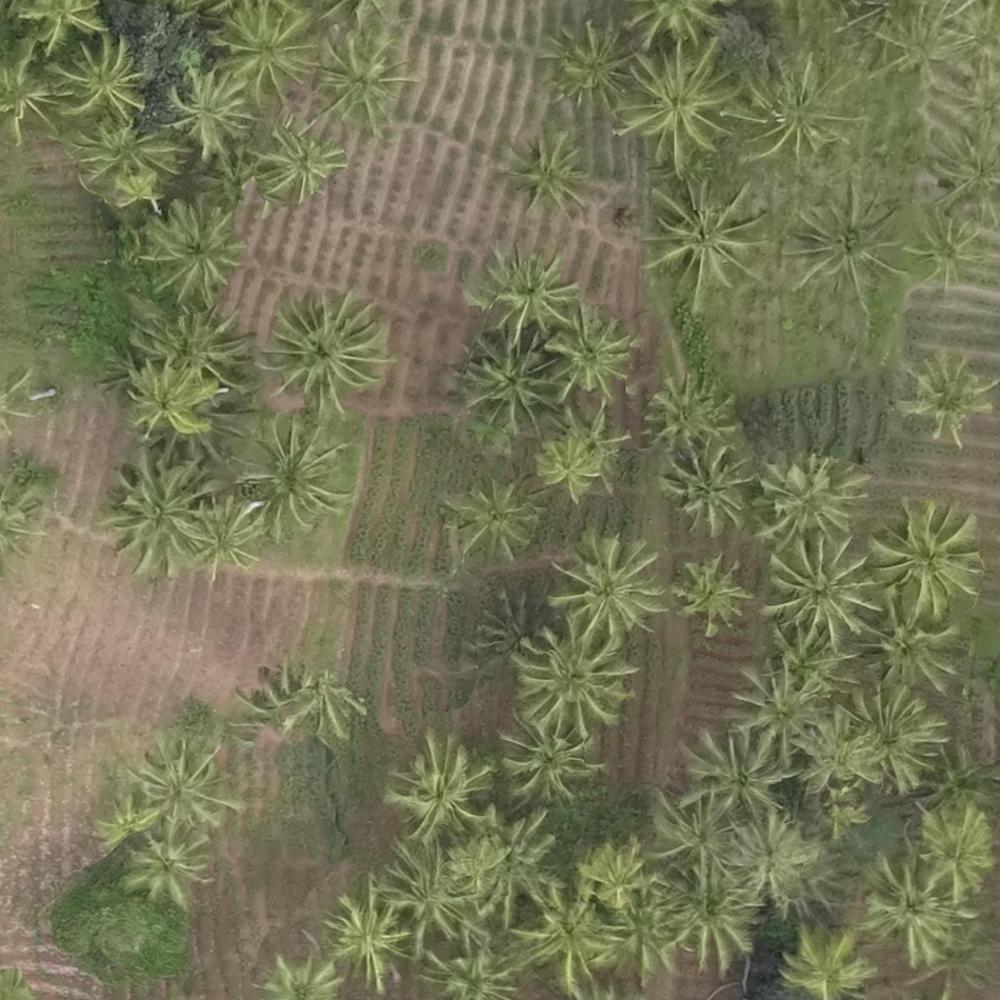Palm: (641, 182, 765, 296), (868, 496, 985, 613), (622, 45, 734, 164), (265, 292, 380, 404), (238, 416, 344, 530), (112, 452, 217, 567), (513, 633, 633, 733), (549, 531, 660, 639), (794, 188, 900, 301), (736, 56, 847, 160), (661, 864, 763, 977), (767, 541, 874, 646), (517, 888, 621, 995), (860, 856, 963, 964), (214, 1, 319, 101), (128, 732, 235, 830), (681, 729, 792, 823), (391, 733, 492, 834), (144, 200, 247, 299), (455, 814, 558, 913), (847, 685, 942, 791), (495, 711, 602, 804), (462, 331, 557, 431), (313, 33, 408, 131), (759, 451, 859, 544), (324, 885, 418, 982), (476, 248, 574, 339), (141, 309, 240, 398), (377, 843, 471, 936), (729, 671, 821, 765), (70, 115, 177, 192), (864, 605, 955, 694), (503, 129, 590, 222), (905, 801, 992, 890), (545, 308, 631, 395), (903, 207, 990, 293), (251, 121, 341, 204), (121, 363, 218, 440), (649, 791, 734, 878), (907, 356, 990, 445), (52, 36, 142, 117), (124, 827, 210, 911), (727, 824, 815, 906), (544, 24, 632, 102), (664, 444, 746, 526), (165, 65, 245, 149), (780, 924, 867, 1000), (648, 377, 732, 452), (758, 626, 843, 698), (448, 480, 529, 555), (580, 845, 657, 916), (674, 564, 748, 636), (193, 500, 264, 573), (534, 439, 599, 502)
